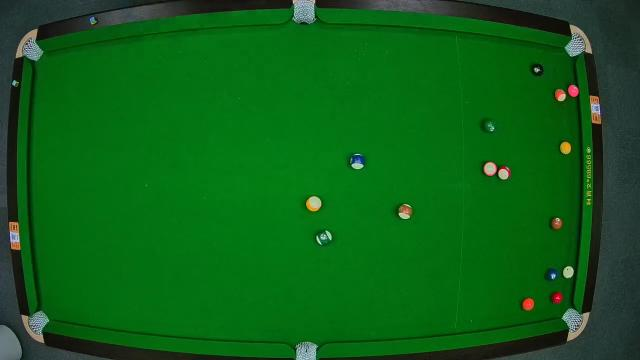bag1: (22, 39, 42, 61)
bag2: (292, 0, 318, 24)
bag3: (564, 33, 588, 55)
bag4: (27, 310, 48, 334)
bag5: (293, 340, 319, 360)
bag6: (562, 308, 582, 330)
ball0: (562, 264, 576, 280)
ball1: (560, 141, 572, 155)
ball10: (350, 154, 366, 170)
ball11: (496, 164, 512, 180)
ball12: (480, 161, 496, 177)
ball13: (554, 90, 566, 102)
ball14: (316, 228, 334, 246)
ball15: (397, 204, 413, 220)
ball2: (545, 267, 559, 283)
ball3: (550, 290, 564, 306)
ball4: (567, 84, 581, 98)
ball5: (522, 296, 534, 312)
ball6: (480, 118, 496, 133)
ball7: (548, 214, 564, 232)
ball8: (530, 63, 544, 76)
ball9: (304, 195, 322, 213)
